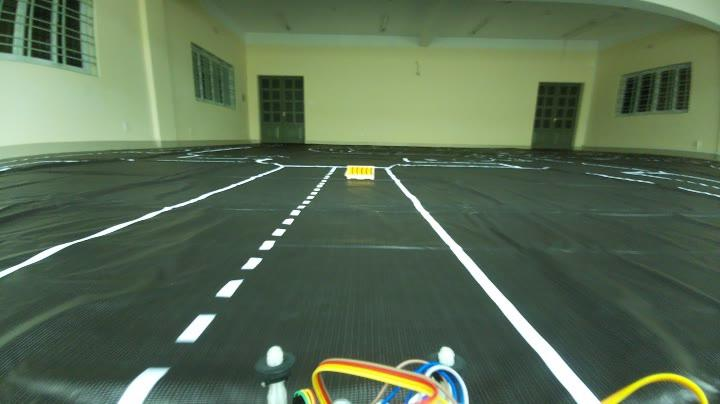roadblock: (339, 158, 382, 192)
